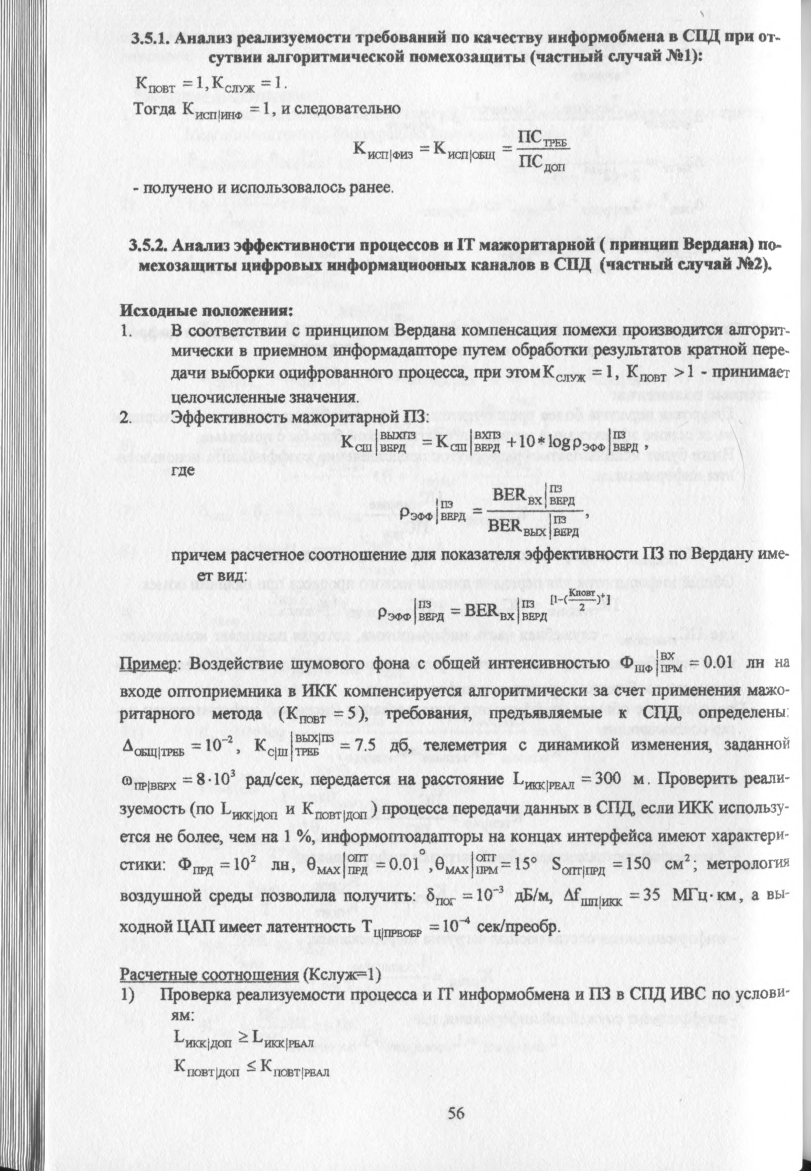BER.вх.пз.верд: (465, 589, 549, 624), (490, 481, 576, 507)
BER.вых.пз.верд: (486, 514, 581, 541)
K.исп.общ: (431, 136, 497, 163)
K.исп.физ: (349, 137, 415, 162)
K.повт: (570, 588, 596, 597)
K.сш.вхпз.верд: (435, 428, 504, 454)
K.сш.выхпз.верд: (338, 428, 416, 454)
group: (328, 419, 650, 466), (387, 479, 591, 546), (365, 583, 609, 633), (342, 121, 504, 184), (428, 124, 573, 178)
ρ.эфф.пз.верд: (571, 426, 640, 458), (374, 595, 446, 625), (397, 495, 468, 524)
ПС.доп: (515, 153, 567, 173)
ПС.треб: (515, 126, 569, 147)
